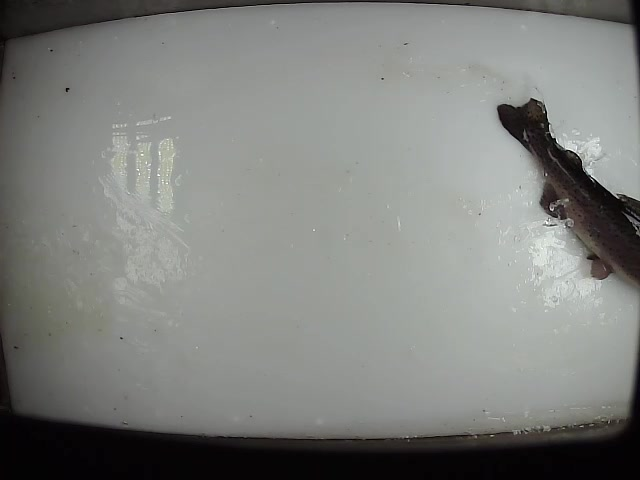fish: (494, 95, 640, 291)
